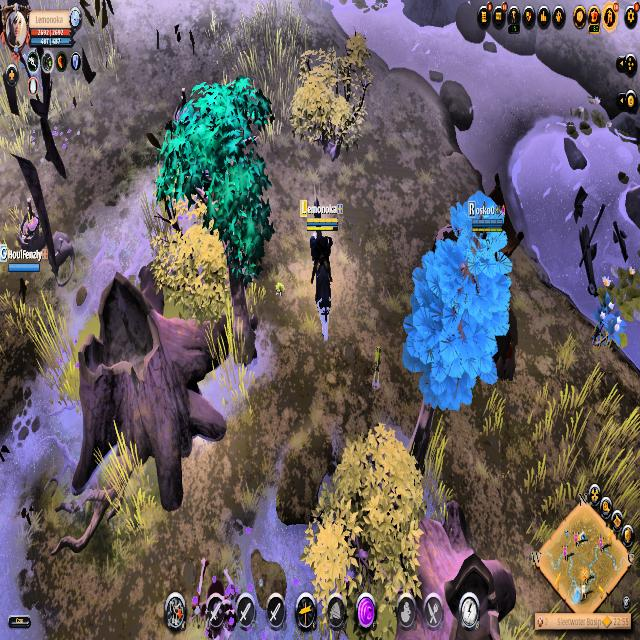fiber tier 4: (594, 294, 624, 360)
wood tier 3: (156, 75, 275, 284)
wood tier 4: (406, 192, 514, 416)
